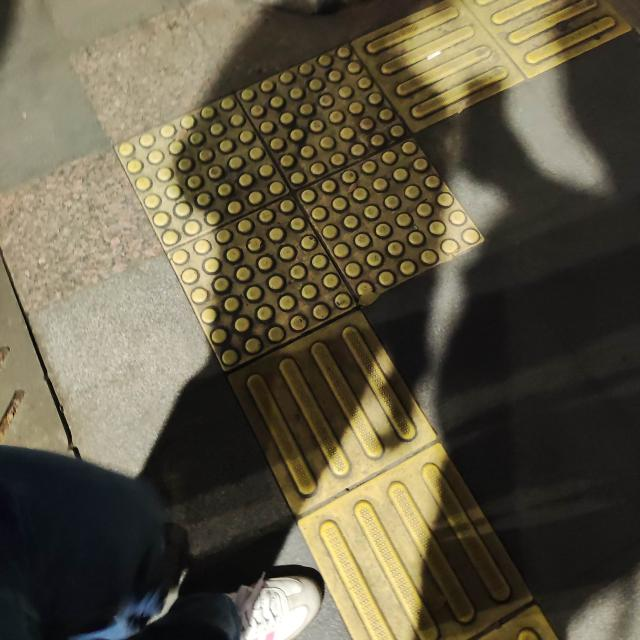kanan: (61, 2, 633, 397)
